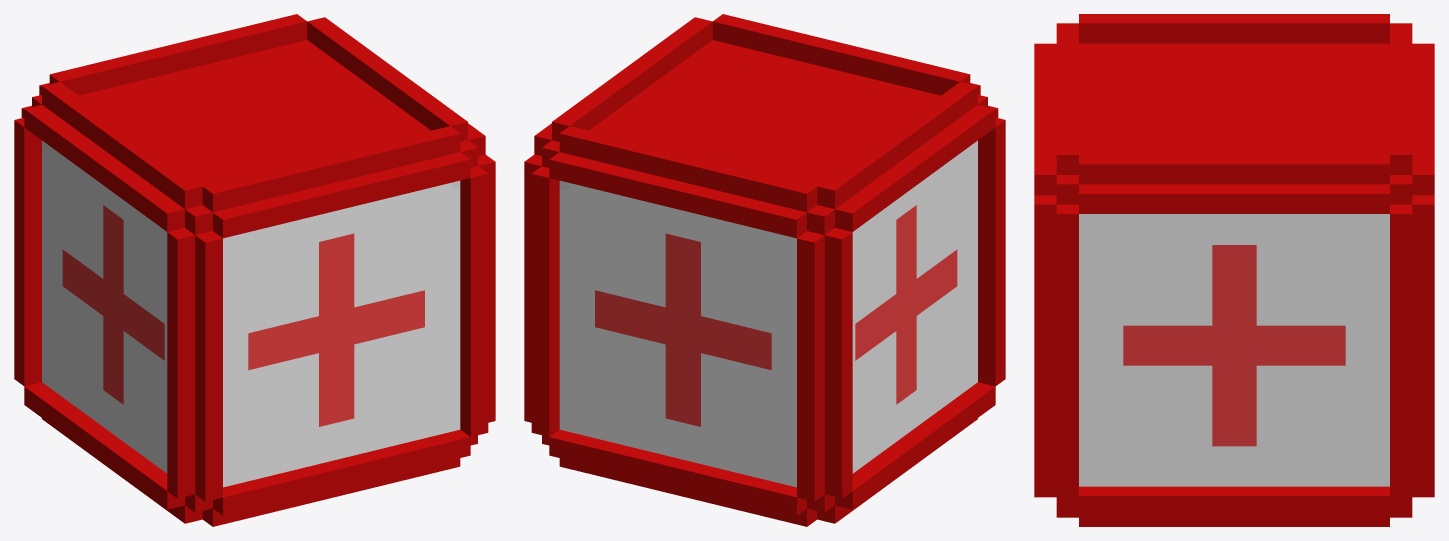
File: Health.obj
3 renders of one model, left to right at view 1: azimuth 30°, elevation 25°; view 2: azimuth 150°, elevation 25°; view 3: azimuth 270°, elevation 25°, orthographic. The views are drawn at different scales.
Bounding box in the file's own units: 3.6 × 3.6 × 3.6.
1 material, 1 textured.
